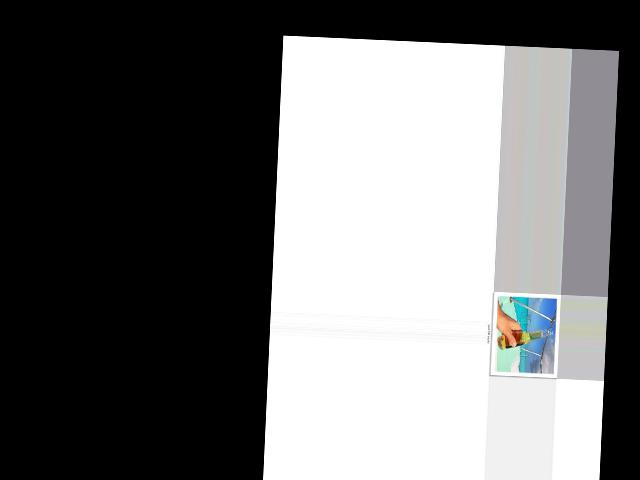beer: (497, 325, 552, 352)
